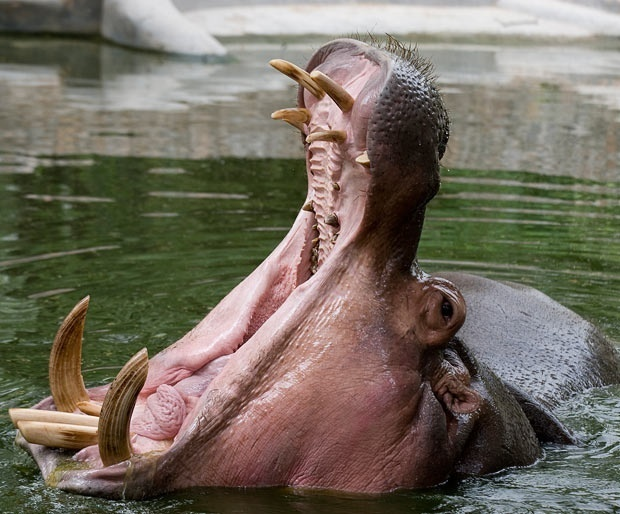hipopotamo: (8, 24, 619, 510)
